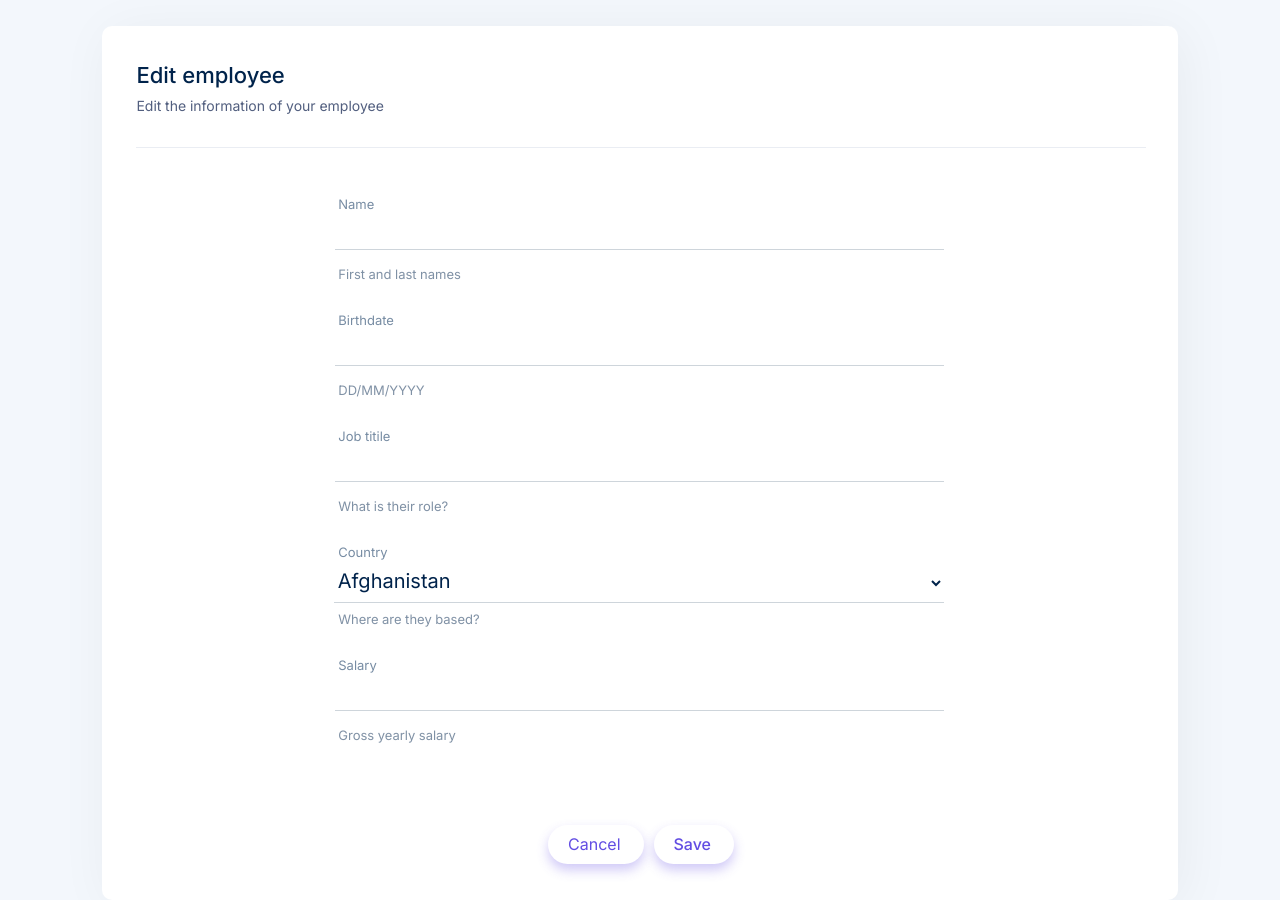
Test case: Editing page › should show error on validation name
(page scrolled)
Click the button with test id "edit-button" at (694,844), box x1=654 y1=825 x2=734 y2=864
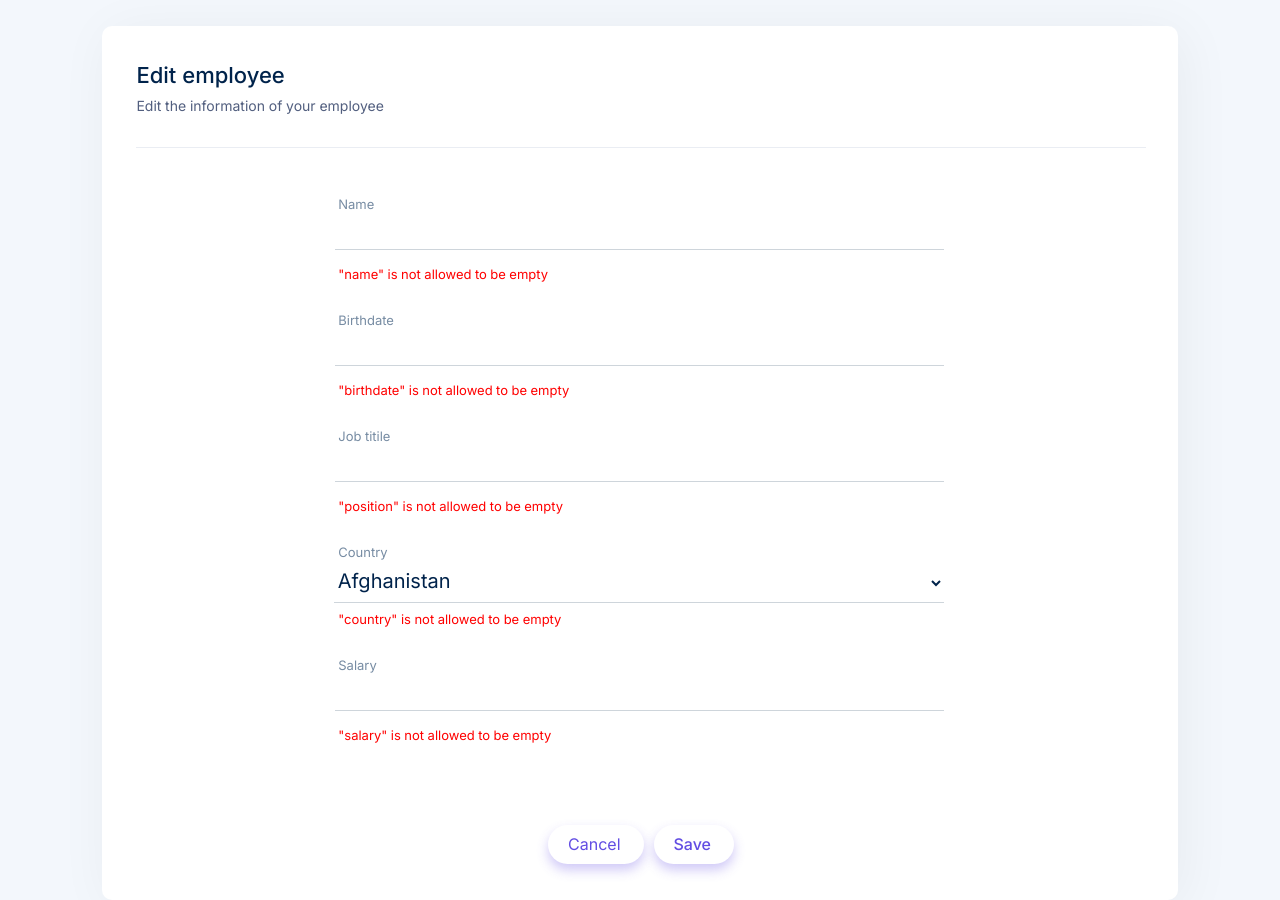
Now the text "\"name\" is not allowed to be empty" is shown, box x1=338 y1=266 x2=548 y2=282
